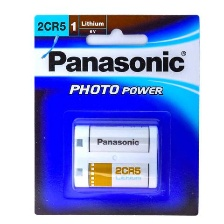battery: (71, 156, 162, 191), (72, 119, 160, 155)
book: (28, 9, 202, 217)
